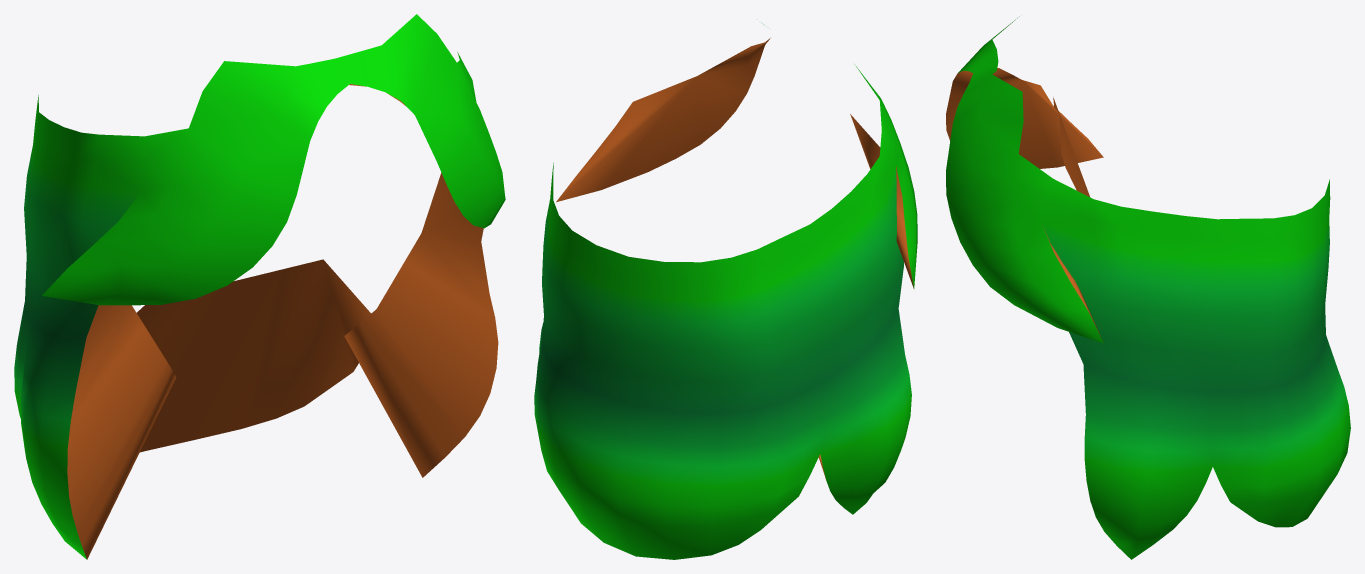
Rendered from Hair2_27.glb.
3 renders of one model, left to right at view 1: azimuth 30°, elevation 25°; view 2: azimuth 150°, elevation 25°; view 3: azimuth 270°, elevation 25°, orthographic. The views are drawn at different scales.
Bounding box in the file's own units: 66 × 74.52 × 60.73.
